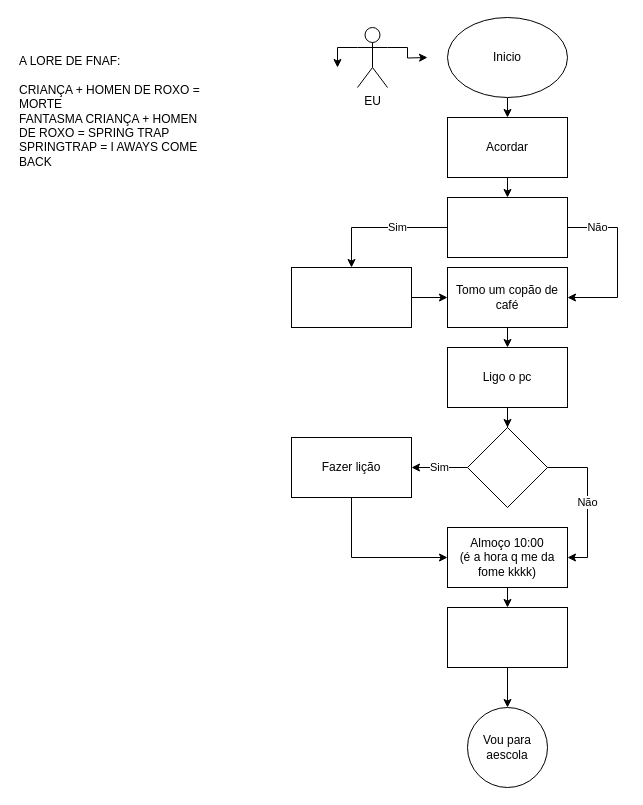
The diagram is 643 pixels wide and 805 high, and some of its shapes have lost their labels. Each missing label, with the centre of its shape:
Escovo os dentes e Troco de roupa: (x=507, y=637)
Pego a blusa no cabide: (x=351, y=297)
Se Tiver frio: (x=507, y=227)
Tenho lição?: (x=507, y=467)
